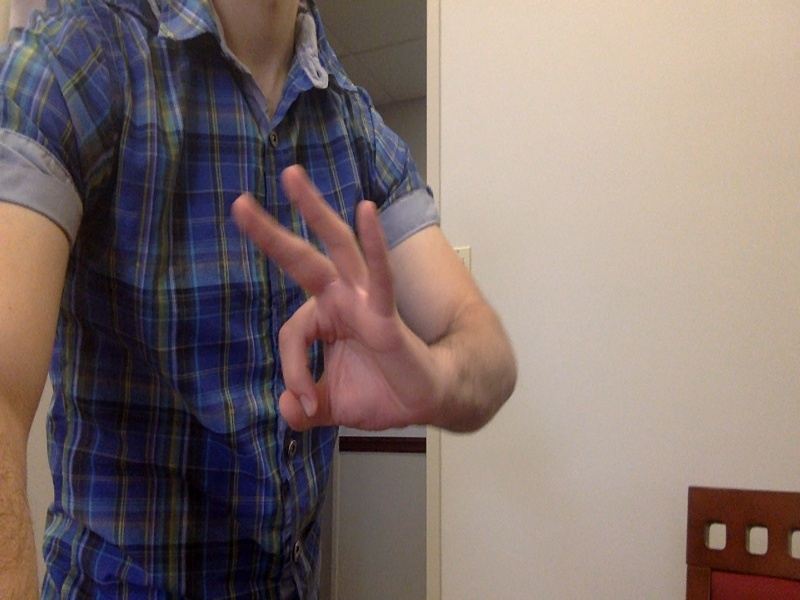3-hand: (231, 165, 433, 452)
